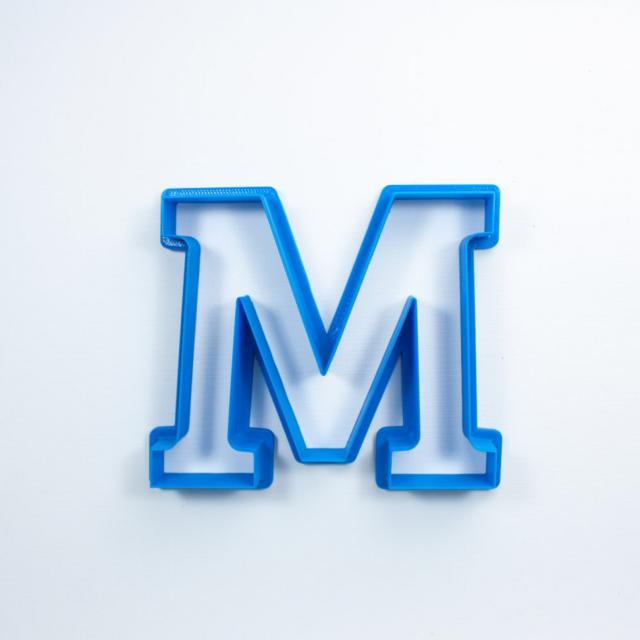M: (127, 96, 531, 530)
